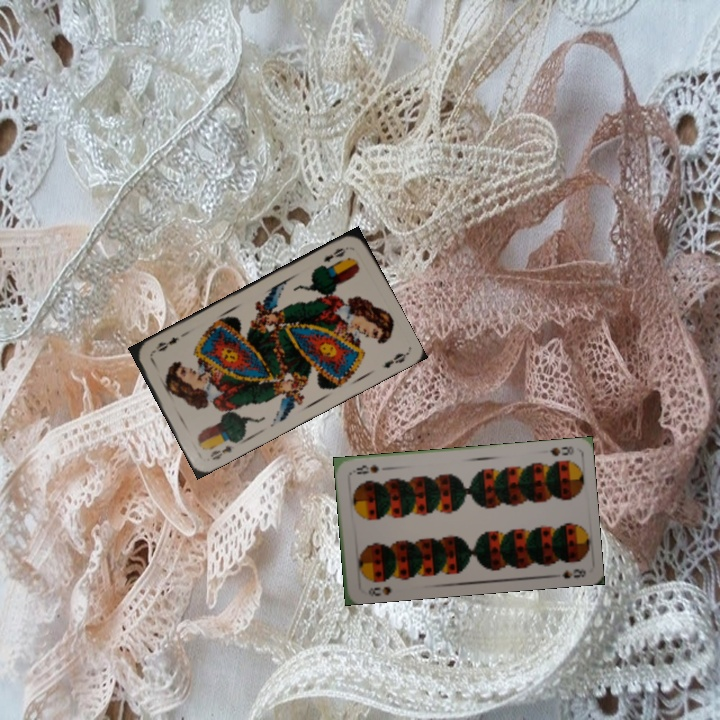EO: (206, 441, 237, 463), (319, 244, 348, 265)
S8: (546, 442, 577, 458), (364, 583, 394, 599)
